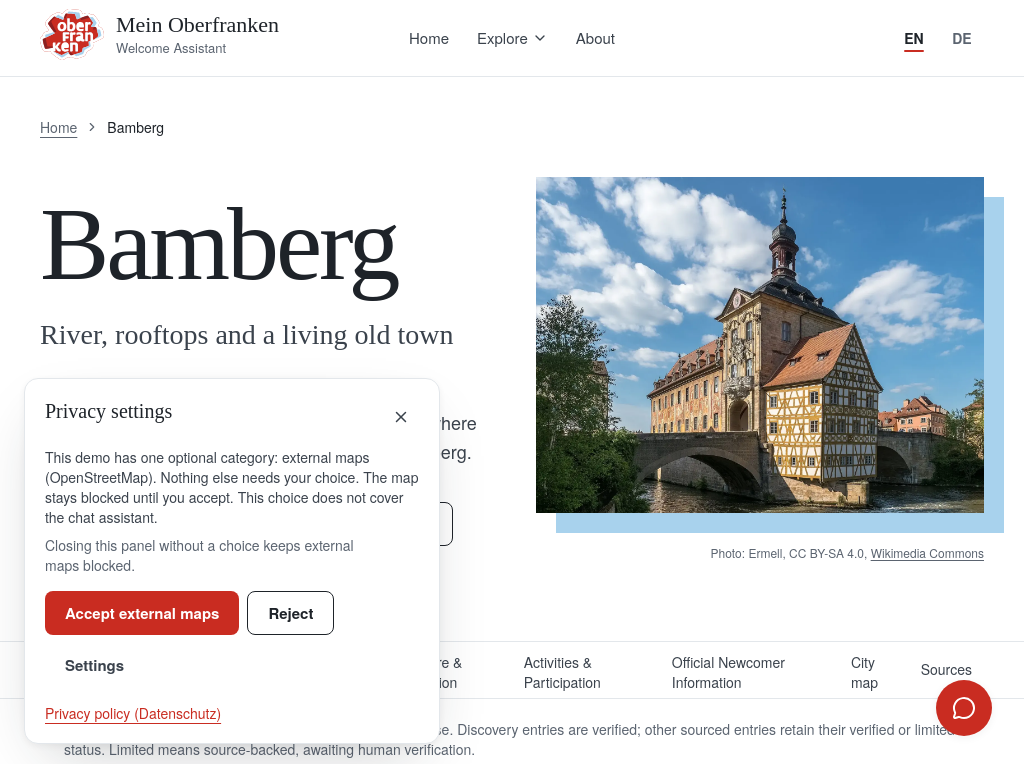
it: sources in the chat › shows no source block for out-of-scope and fallback replies
The width and height of the screenshot is (1024, 764).
Click the button named "Open the welcome assistant". click: (964, 708)
box: [936,680,992,736]
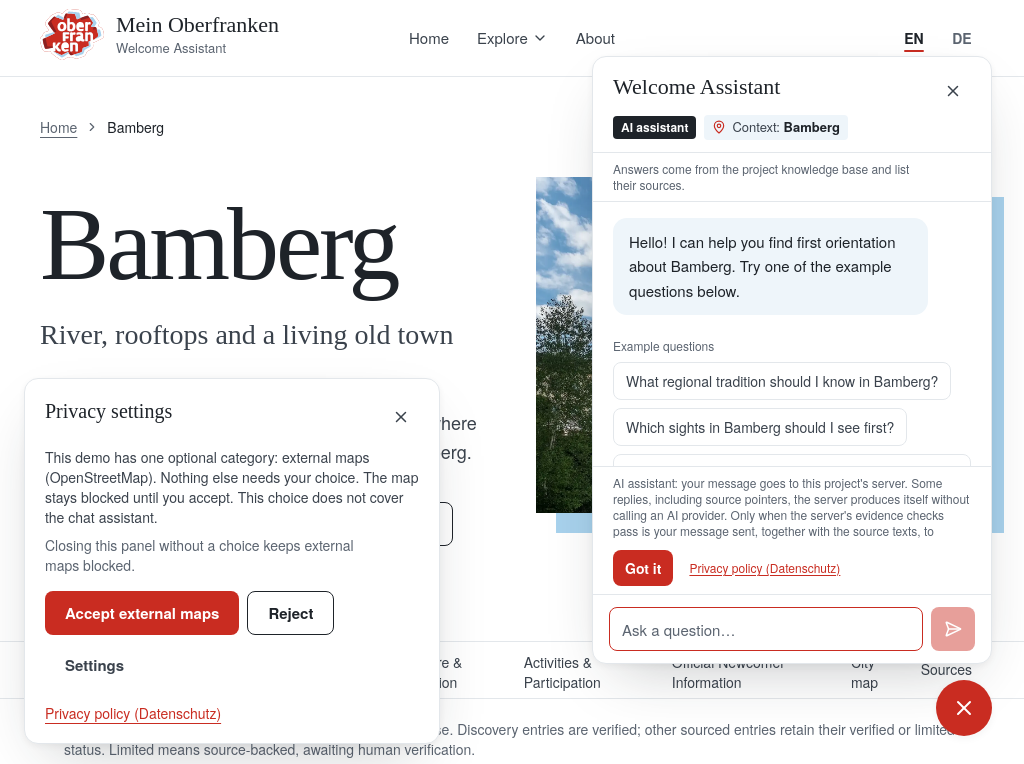
Type "Find me an apartment" into the field named "Your message". click: (766, 629)
box: [609,607,923,651]
Then press Enter
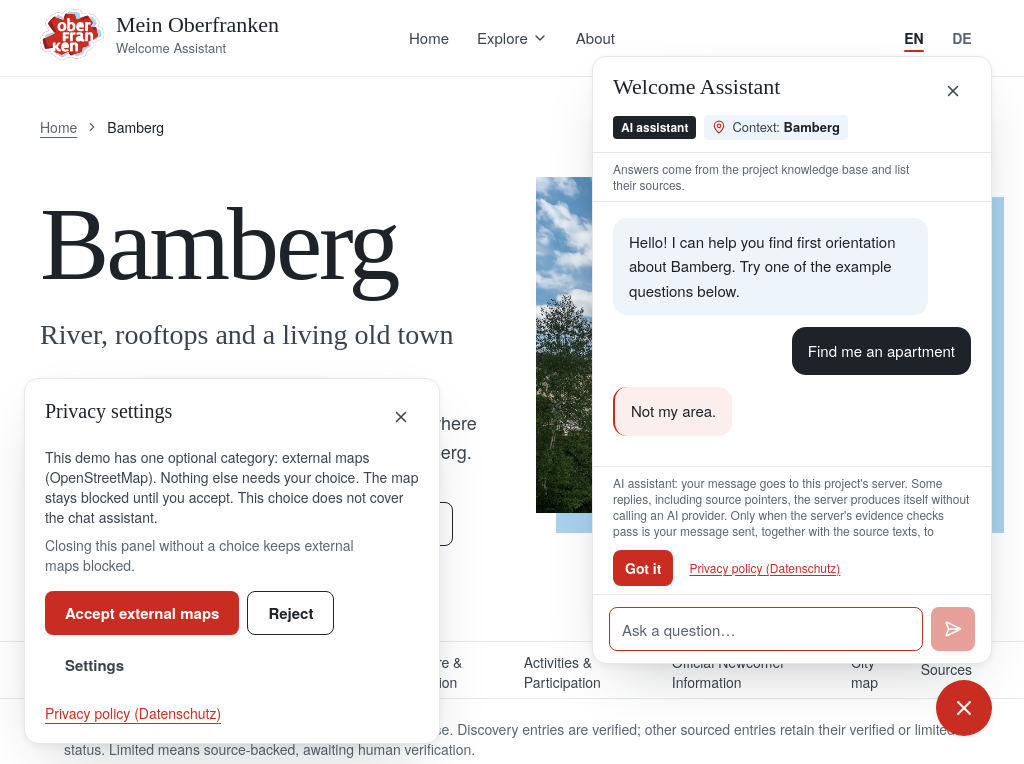
Expected: the text "Not my area." is shown, [613,387,732,436]
